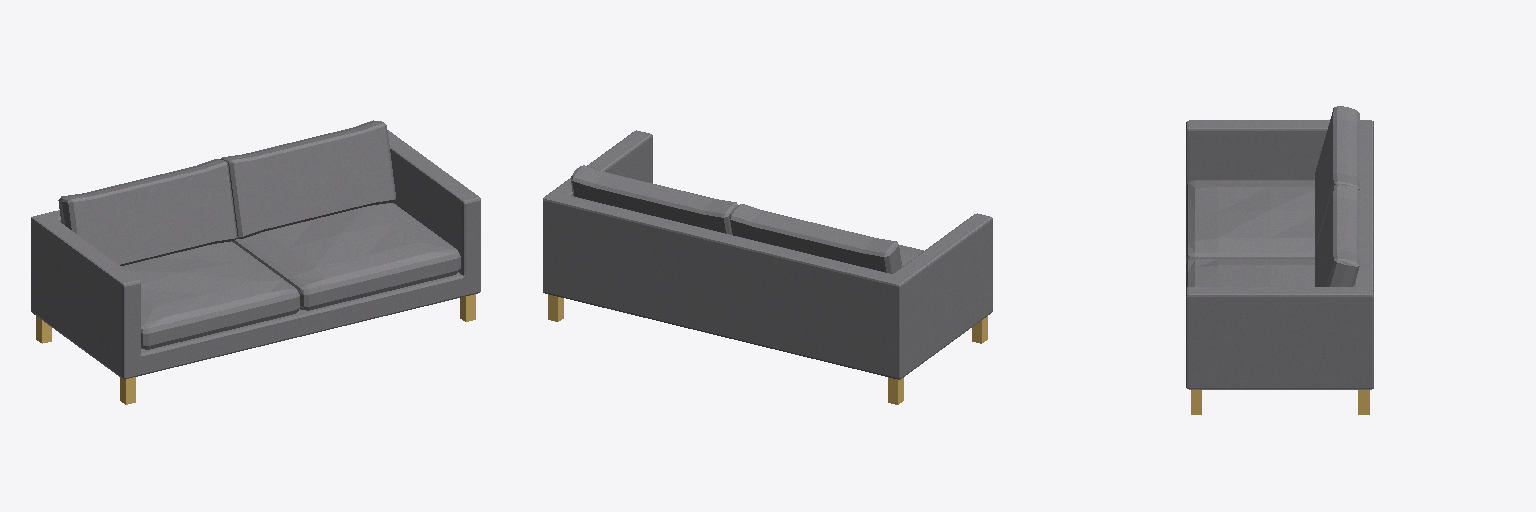
The picture shows the model from 3 angles: view 1: azimuth 30°, elevation 25°; view 2: azimuth 150°, elevation 25°; view 3: azimuth 270°, elevation 25°; orthographic projection.
Parts seen in each view (by area): view 1: polySurface7; view 2: polySurface7; view 3: polySurface7.
Part boxes in pixels (left/top/right/bottom): polySurface7: left=31, top=120, right=480, bottom=404; polySurface7: left=543, top=130, right=992, bottom=404; polySurface7: left=1186, top=106, right=1373, bottom=414.
Size of the model in its own units: 20.5 by 8.07 by 9.32.
Materials: 1 (1 with a texture image).